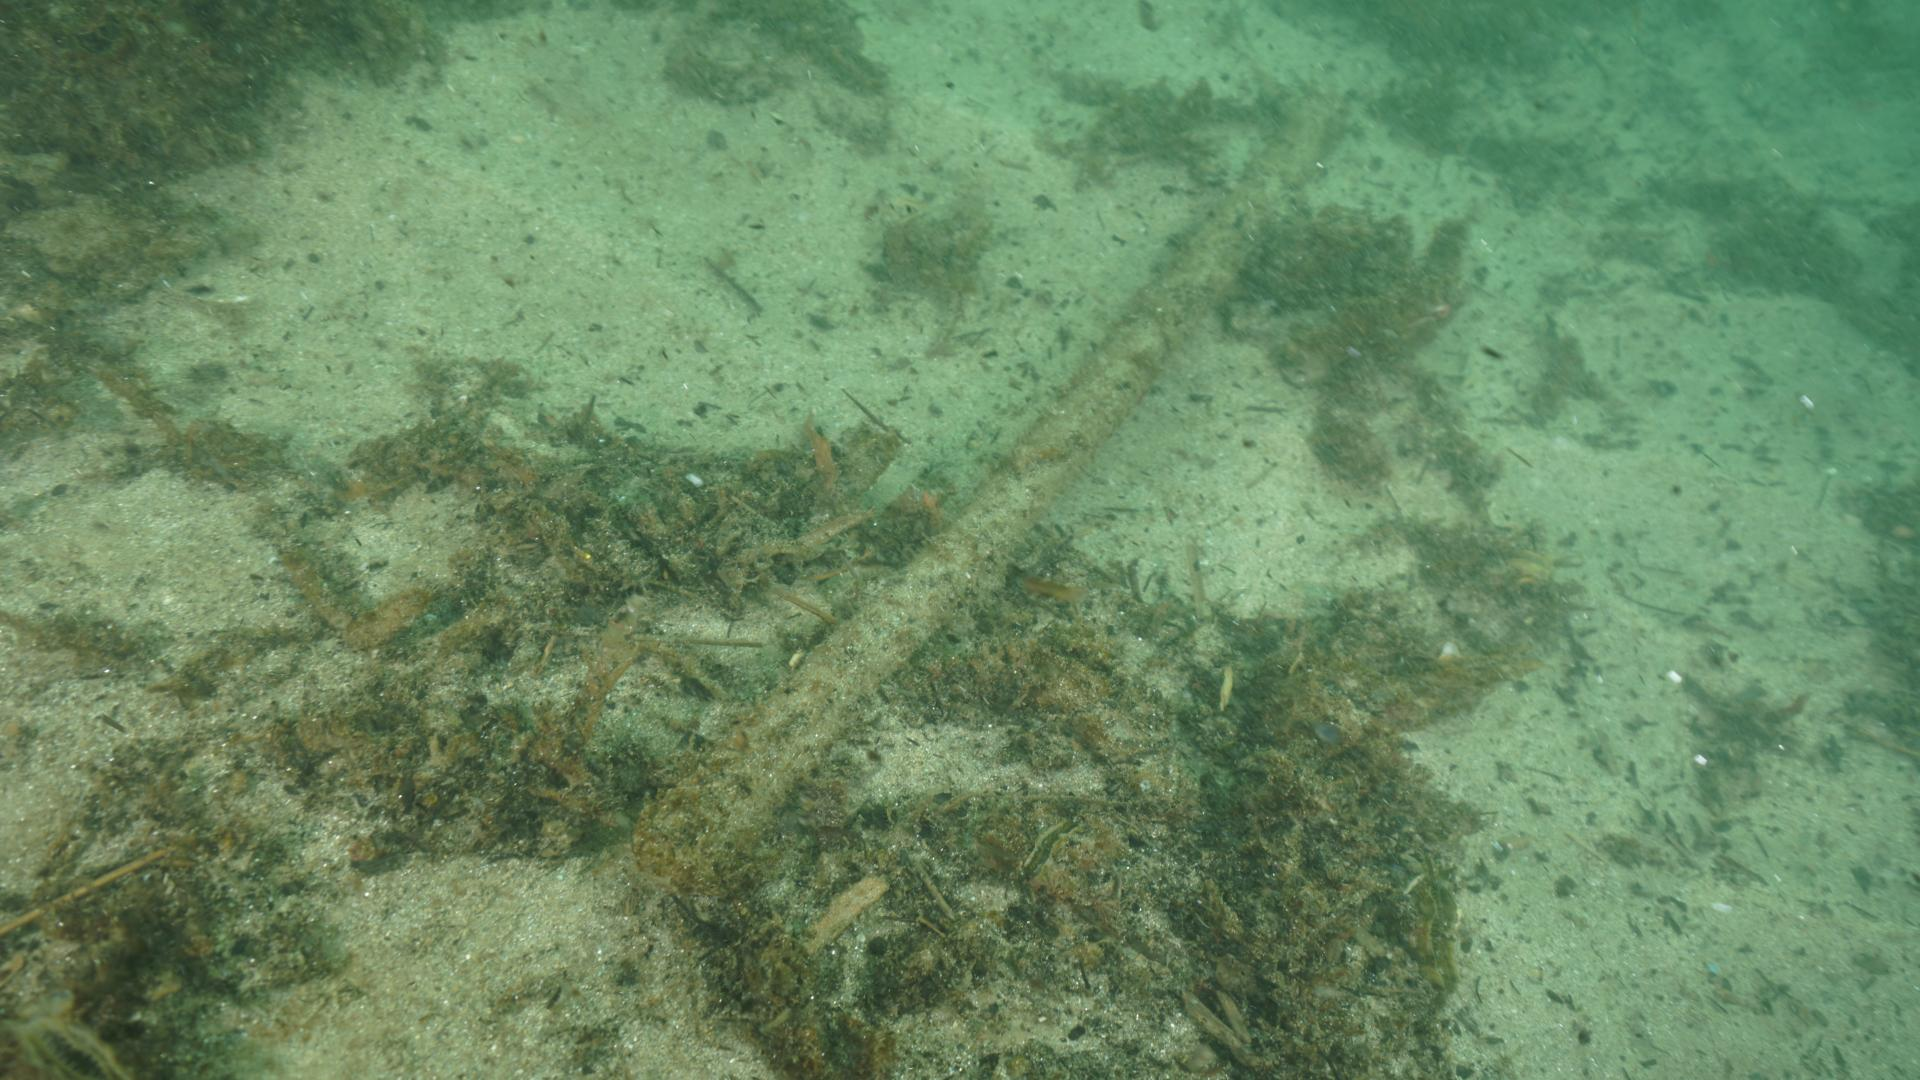wood: (632, 84, 1354, 895)
